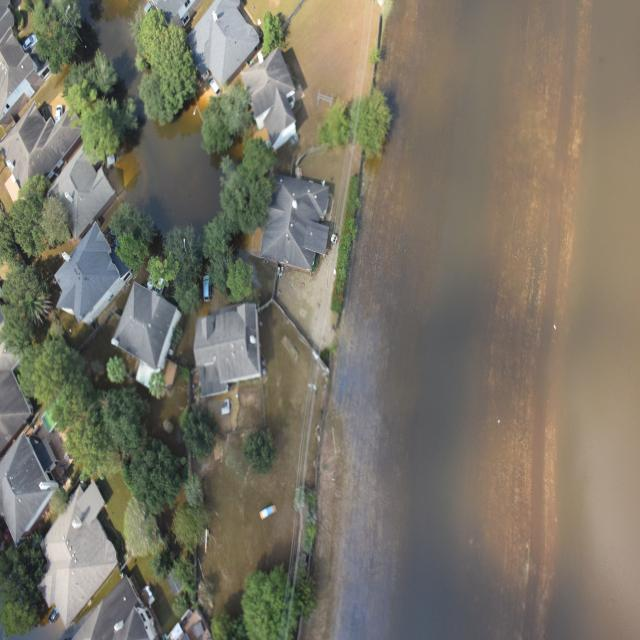fire: (310, 0, 640, 639), (88, 0, 220, 231)
